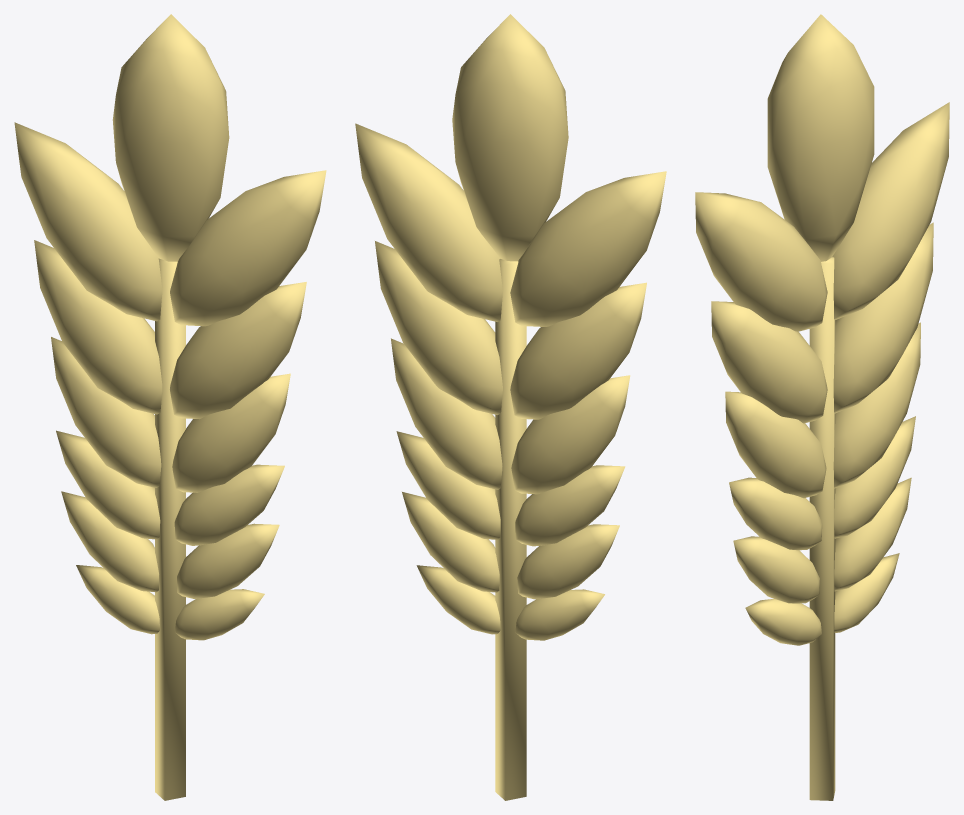
File: NOVELO_WHEAT.gltf
The picture shows the model from 3 angles, left to right: view 1: azimuth 30°, elevation 25°; view 2: azimuth 210°, elevation 25°; view 3: azimuth 270°, elevation 25°; orthographic projection.
Visible parts, largest first — view 1: node-0; view 2: node-0; view 3: node-0.
Part boxes in pixels (bbox=[...]): node-0: bbox=[14, 14, 326, 800]; node-0: bbox=[355, 14, 666, 800]; node-0: bbox=[695, 14, 949, 800].
Size of the model in its own units: 55.61 by 220 by 65.
